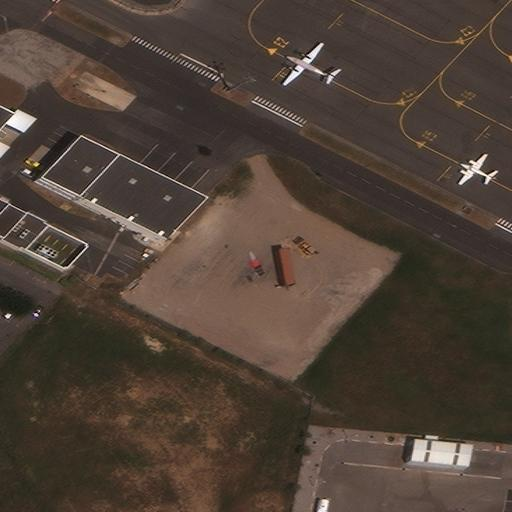Medium Civil Transport: (280, 41, 335, 84)
Small Civil Transport: (457, 152, 492, 183)
